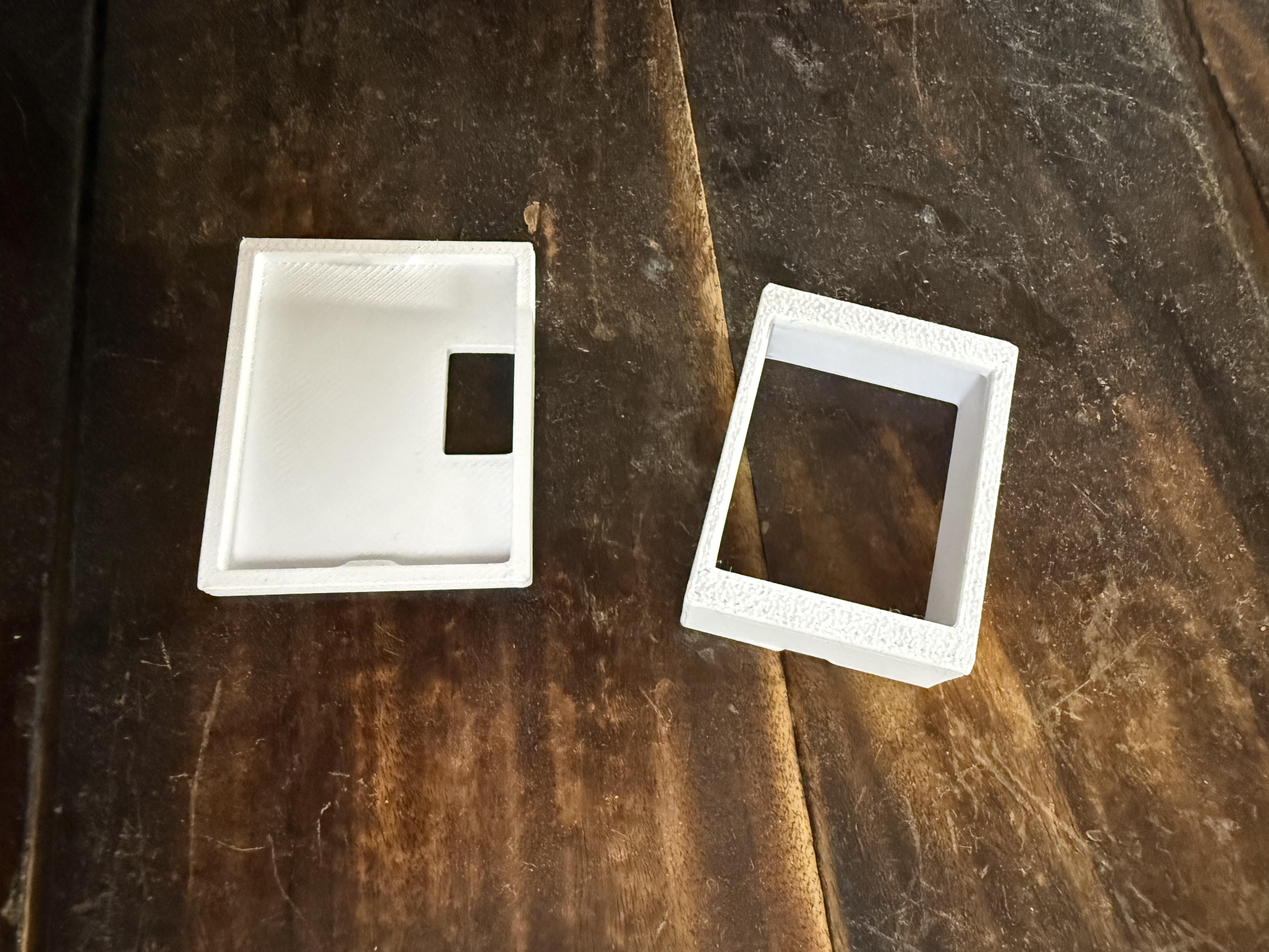enclosure: (679, 281, 1019, 689), (197, 237, 536, 596)
